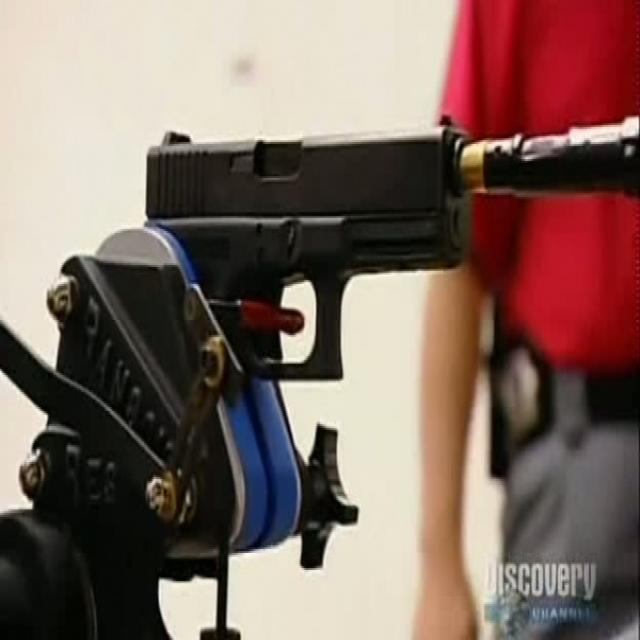weapons: (117, 79, 484, 421)
